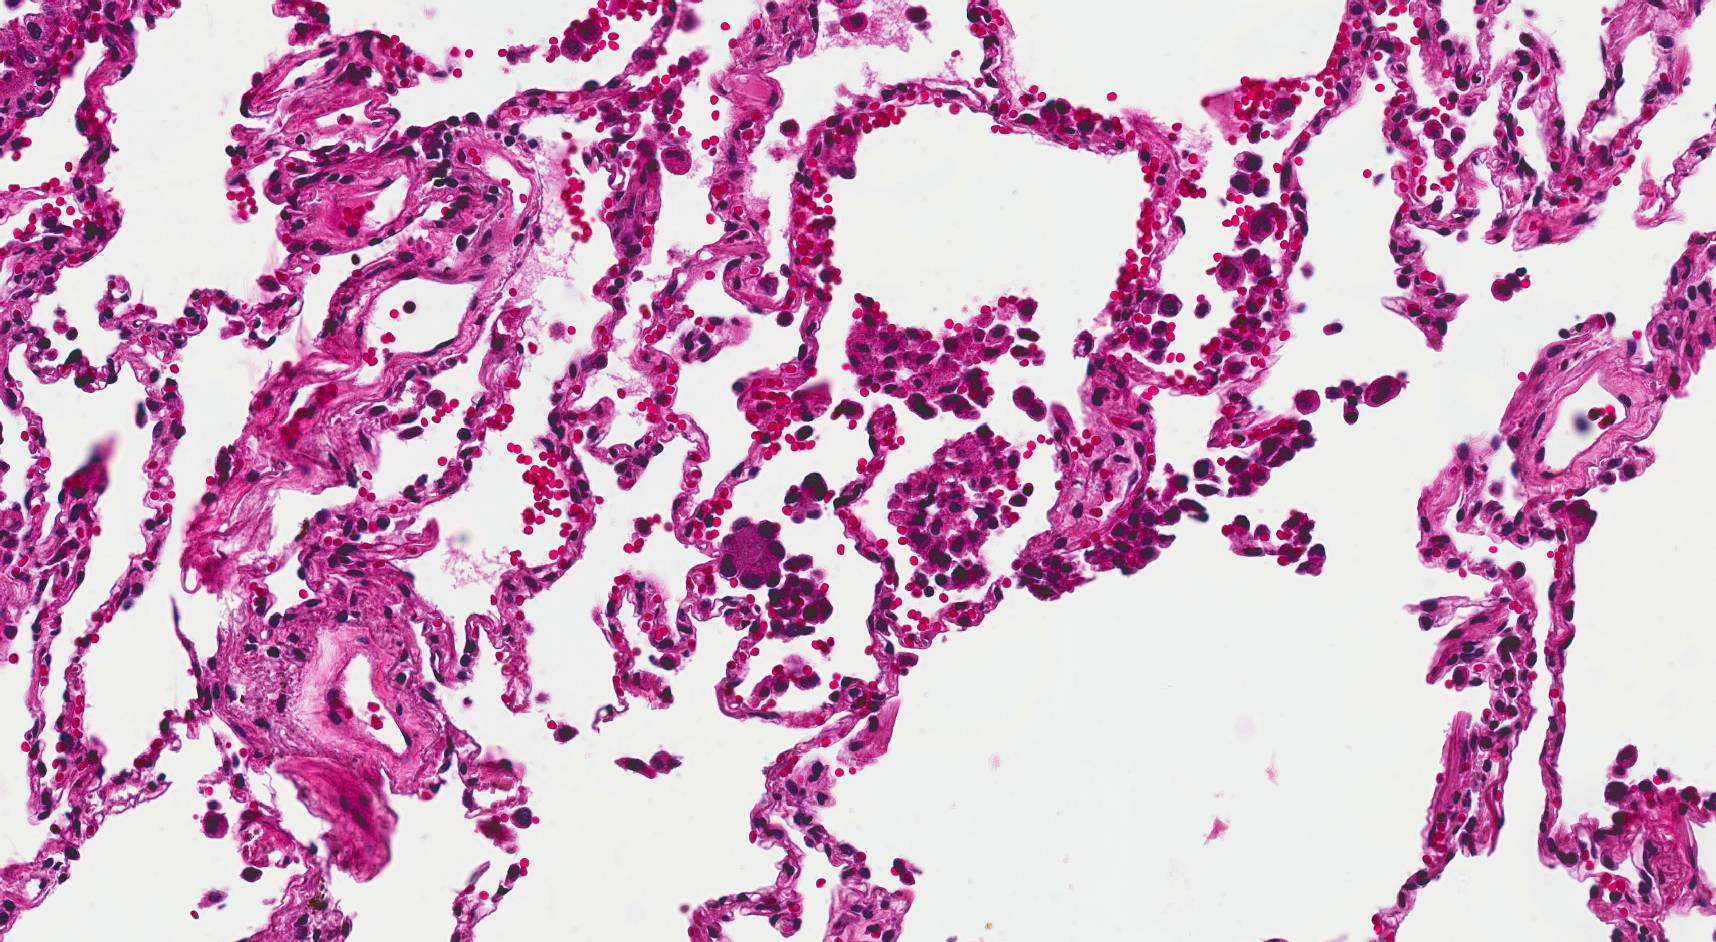stas: (717, 517, 790, 589)
